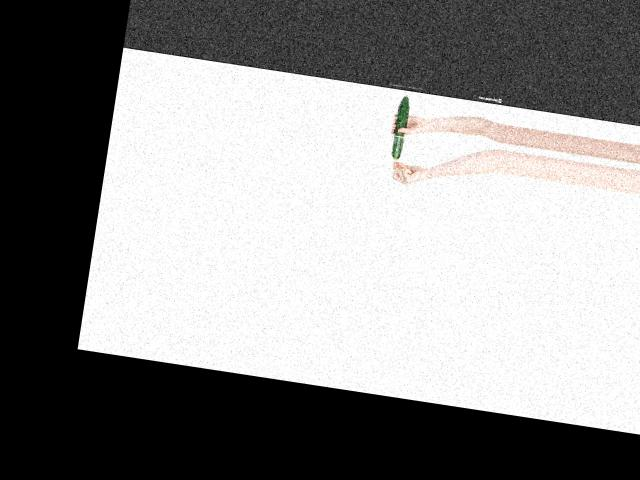cucumber: (390, 93, 409, 159)
